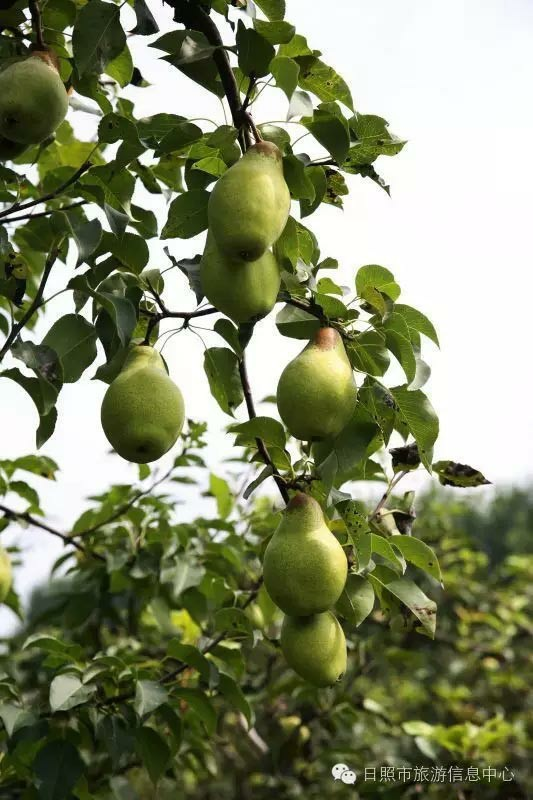pear: (265, 494, 346, 617), (102, 343, 182, 465), (275, 323, 357, 442), (207, 147, 292, 257), (200, 218, 281, 325), (1, 59, 68, 151), (281, 597, 349, 684)
